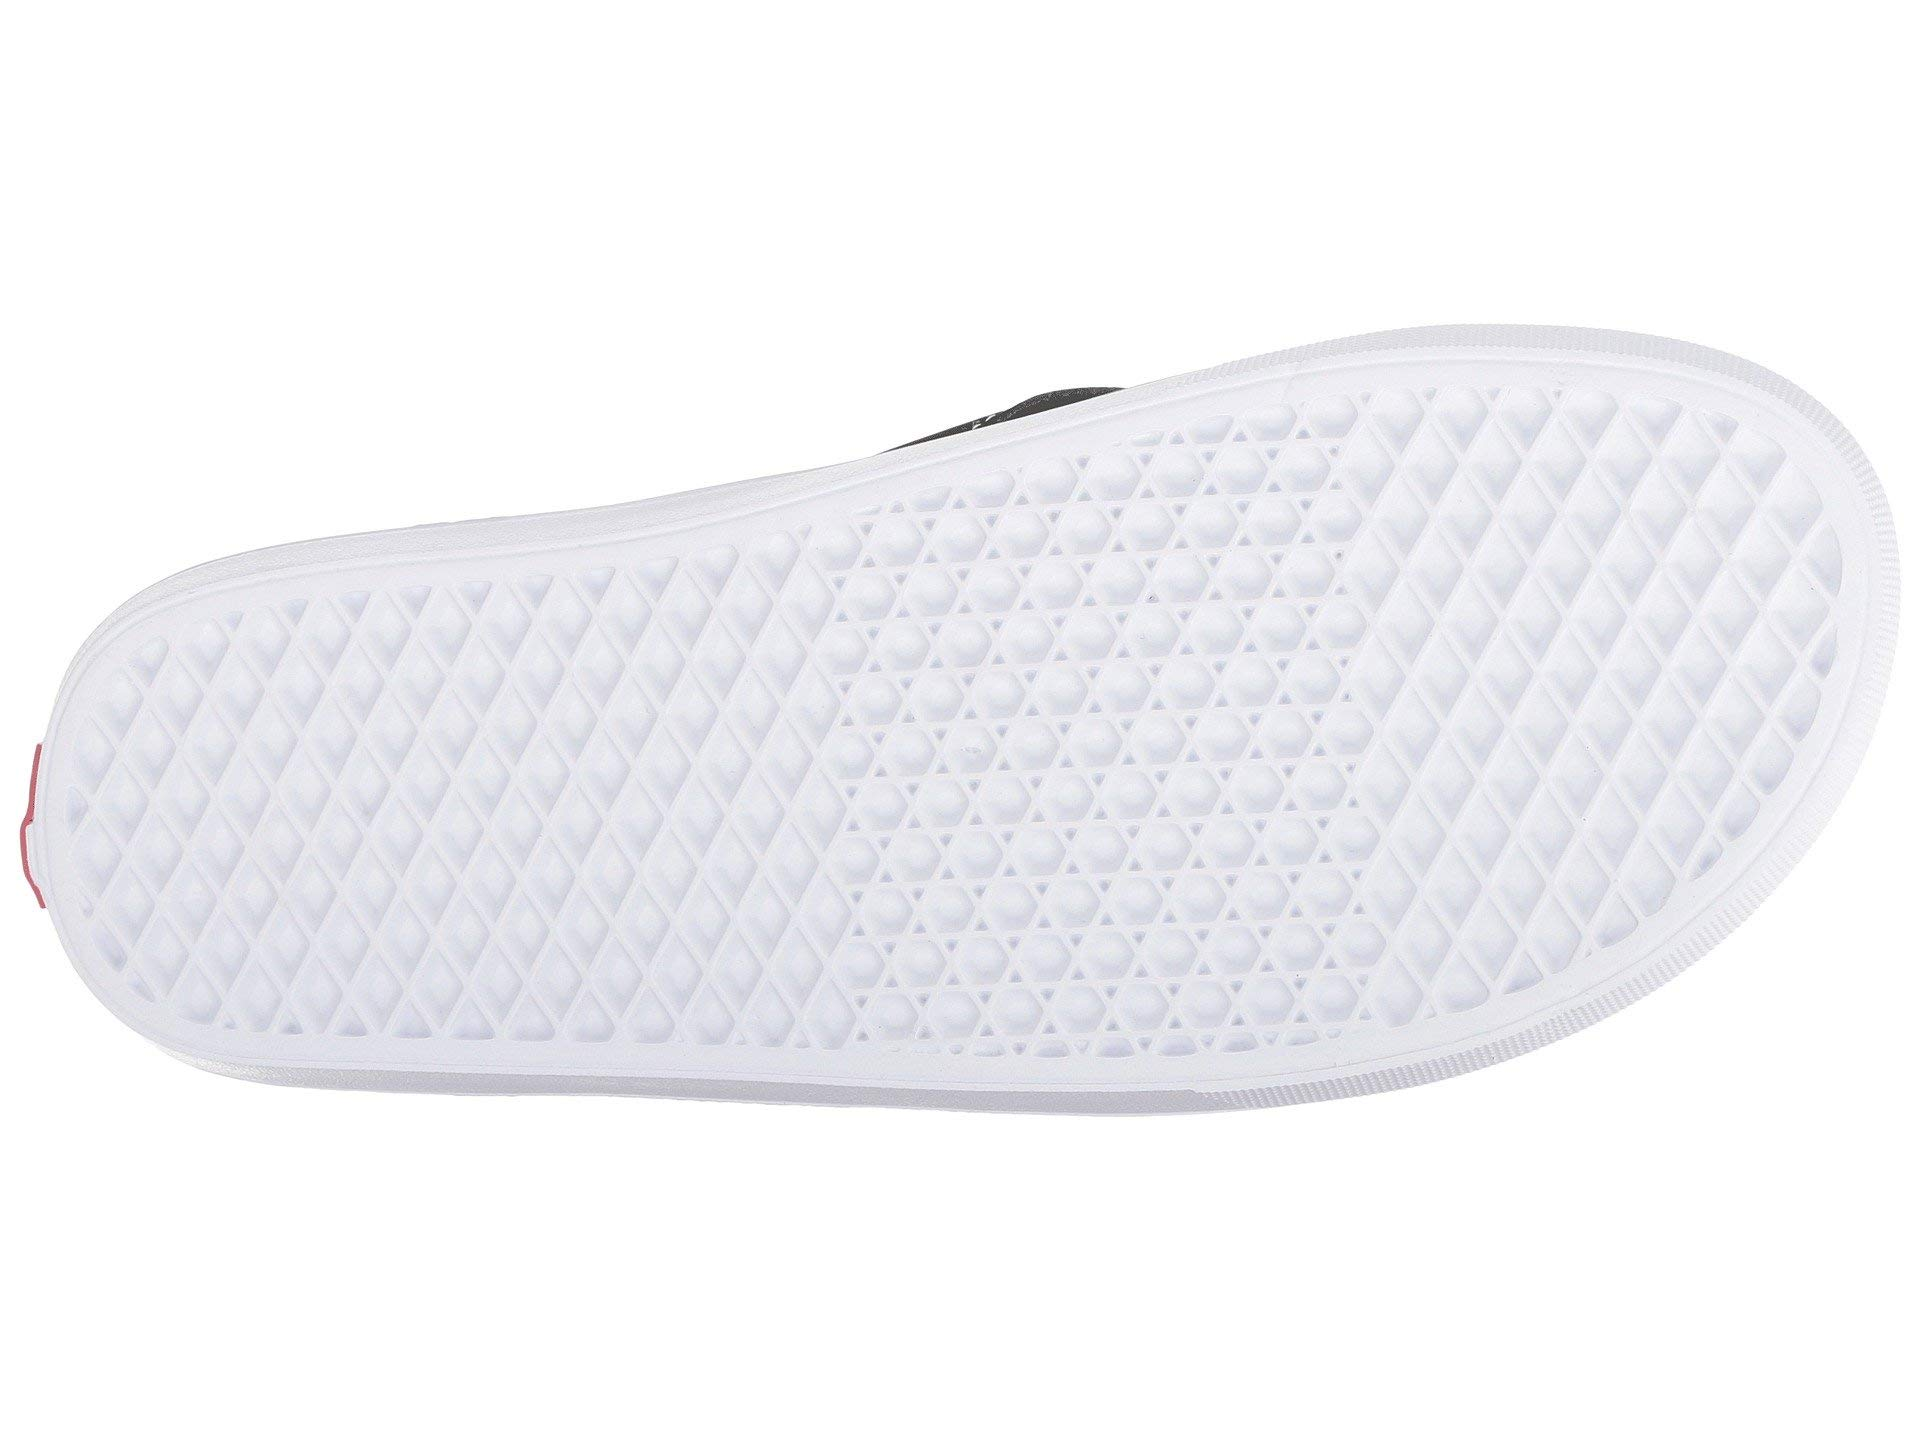polygon: (853, 542, 1253, 942), (1244, 398, 1368, 537), (1274, 942, 1383, 1050)
quad: (133, 666, 541, 1006), (1379, 473, 1742, 843)
star: (853, 542, 1253, 942), (1244, 398, 1368, 537), (1274, 942, 1383, 1050)
triangle: (853, 542, 1253, 942), (1244, 398, 1368, 537), (1274, 942, 1383, 1050)
